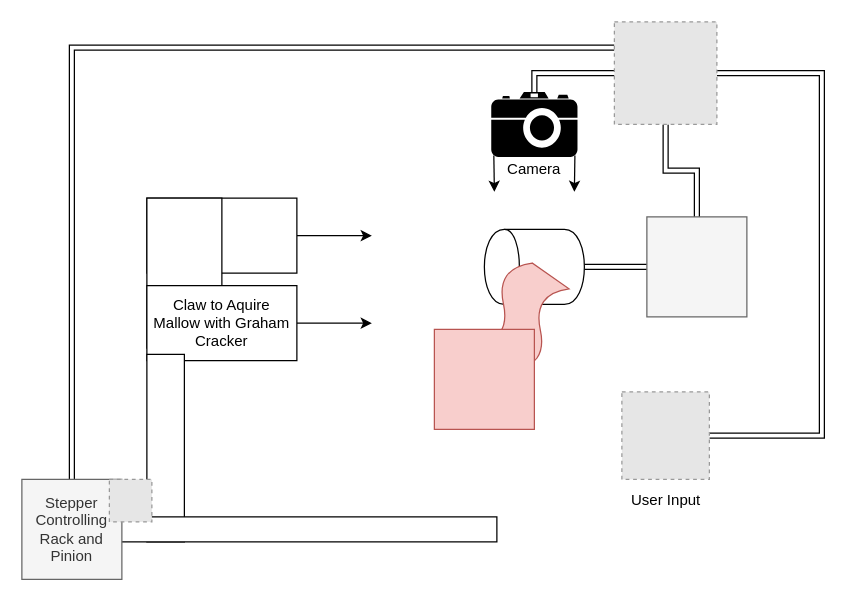
The diagram is 846 pixels wide and 601 high, and some of its shapes have lost their labels. Grey dashed boxes stand in for pictures. Here are the shapes that lost their labels. From the top down, the centre of each, then its label:
[696,266]: Motor Turning Slowly
[483,378]: Heating Element
